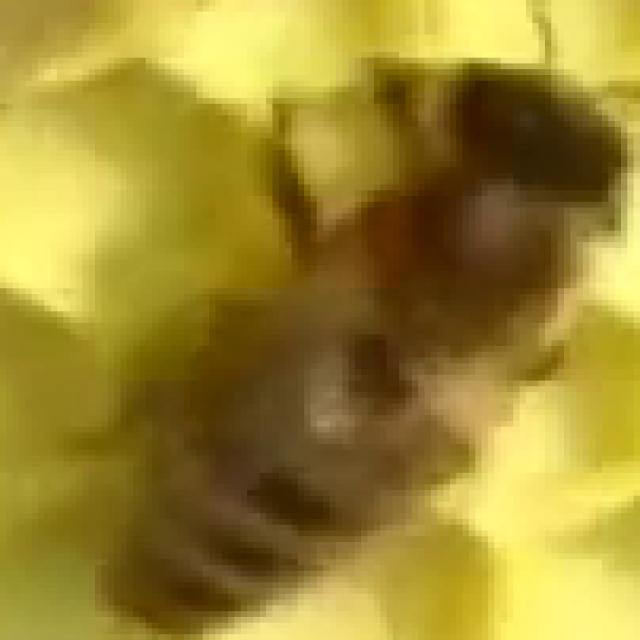honeybee: (110, 65, 621, 619)
